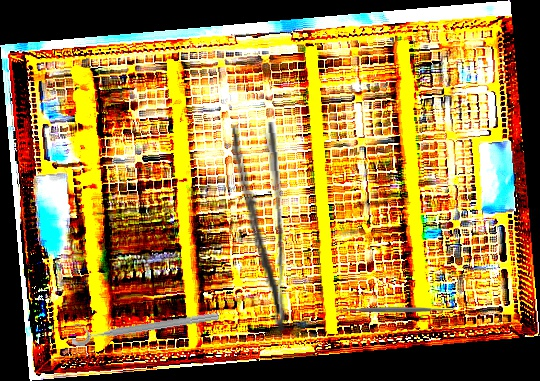Dressing Forceps: (230, 121, 290, 336)
Fixation Ring: (69, 300, 220, 348)
Spatula Surgical: (336, 303, 456, 316)
